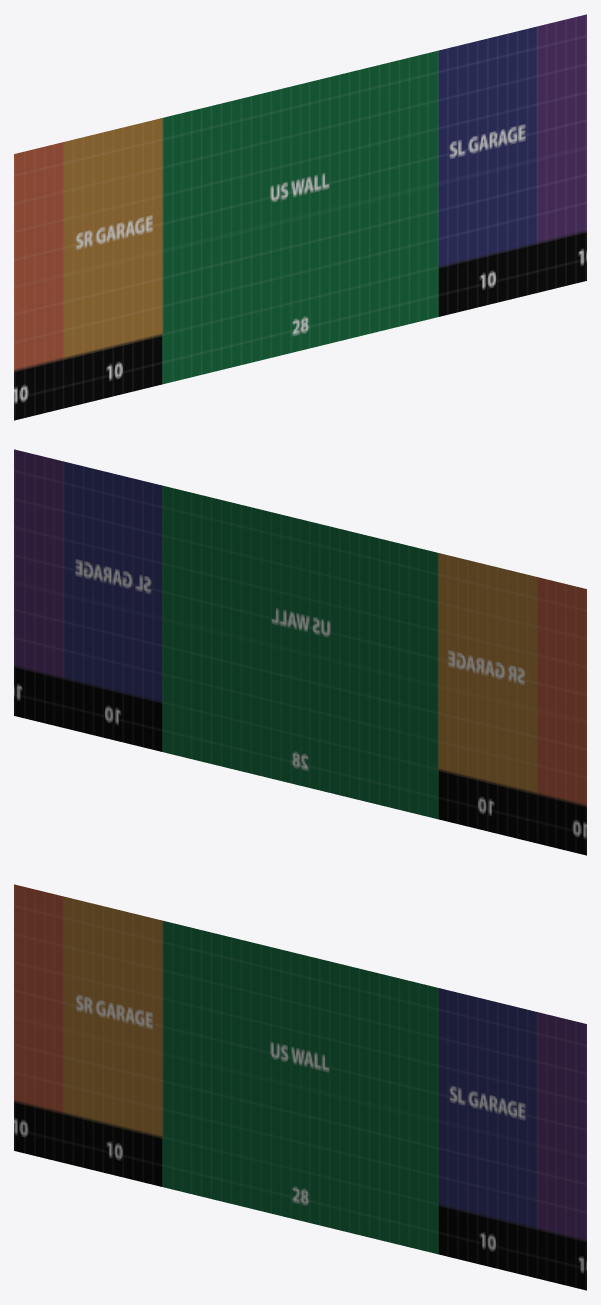
File: ANYMA_Coachella_Stage_v017_LED_FRONT_Perspective.glb
3 renders of one model, top to bottom at view 1: azimuth 30°, elevation 25°; view 2: azimuth 150°, elevation 25°; view 3: azimuth 330°, elevation 25°, orthographic.
Visible parts, largest first — view 1: LED_FRONT_FrontP.002; view 2: LED_FRONT_FrontP.002; view 3: LED_FRONT_FrontP.002.
Part boxes in pixels (x1,y1,x2,y2): LED_FRONT_FrontP.002: [14, 14, 586, 420]; LED_FRONT_FrontP.002: [14, 449, 586, 855]; LED_FRONT_FrontP.002: [14, 884, 586, 1290].
Bounding box in the file's own units: 27 × 12 × 0.
Materials: 1 (1 with a texture image).
